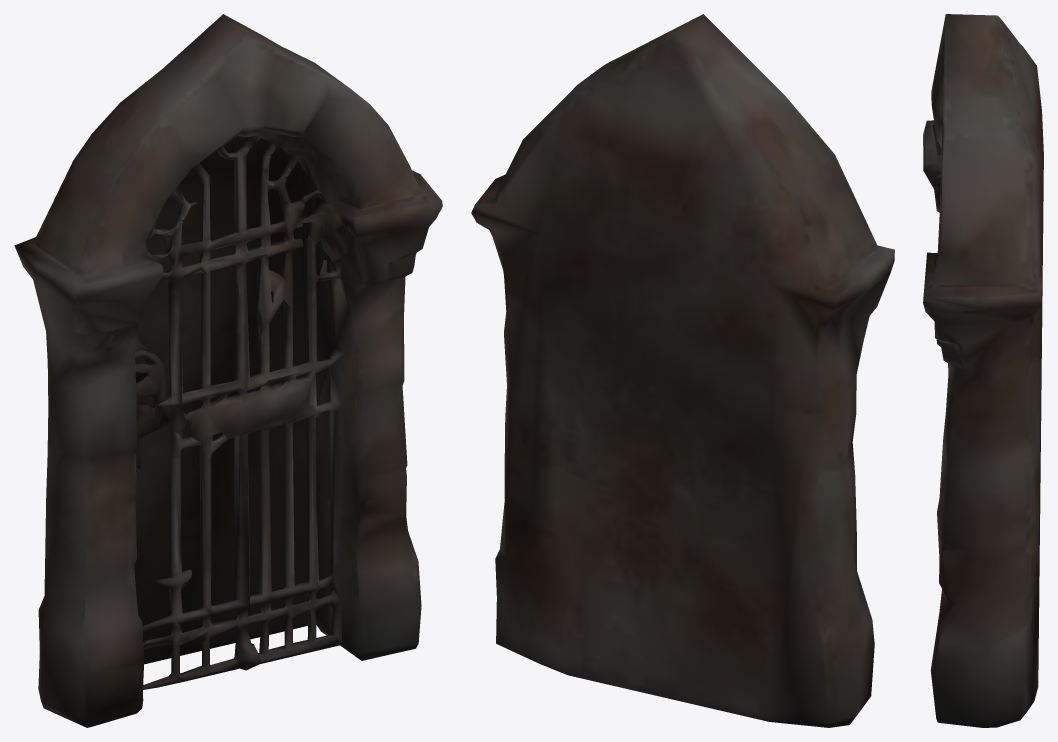
File: worn-iron-castle-door-v001.glb
3 renders of one model, left to right at view 1: azimuth 30°, elevation 25°; view 2: azimuth 150°, elevation 25°; view 3: azimuth 270°, elevation 25°, orthographic. The views are drawn at different scales.
Visible parts, largest first — view 1: worn-iron-castle-door; view 2: worn-iron-castle-door; view 3: worn-iron-castle-door.
Part boxes in pixels (bbox=[...]): worn-iron-castle-door: bbox=[14, 14, 442, 727]; worn-iron-castle-door: bbox=[471, 14, 894, 727]; worn-iron-castle-door: bbox=[923, 14, 1043, 727].
Size of the model in its own units: 1.55 by 2.53 by 0.4392.
1 material, 1 textured.
